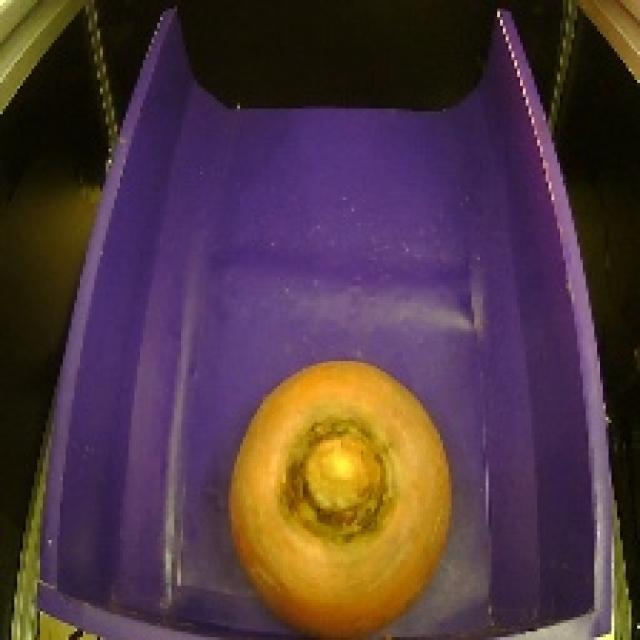carrots: (217, 348, 457, 640)
